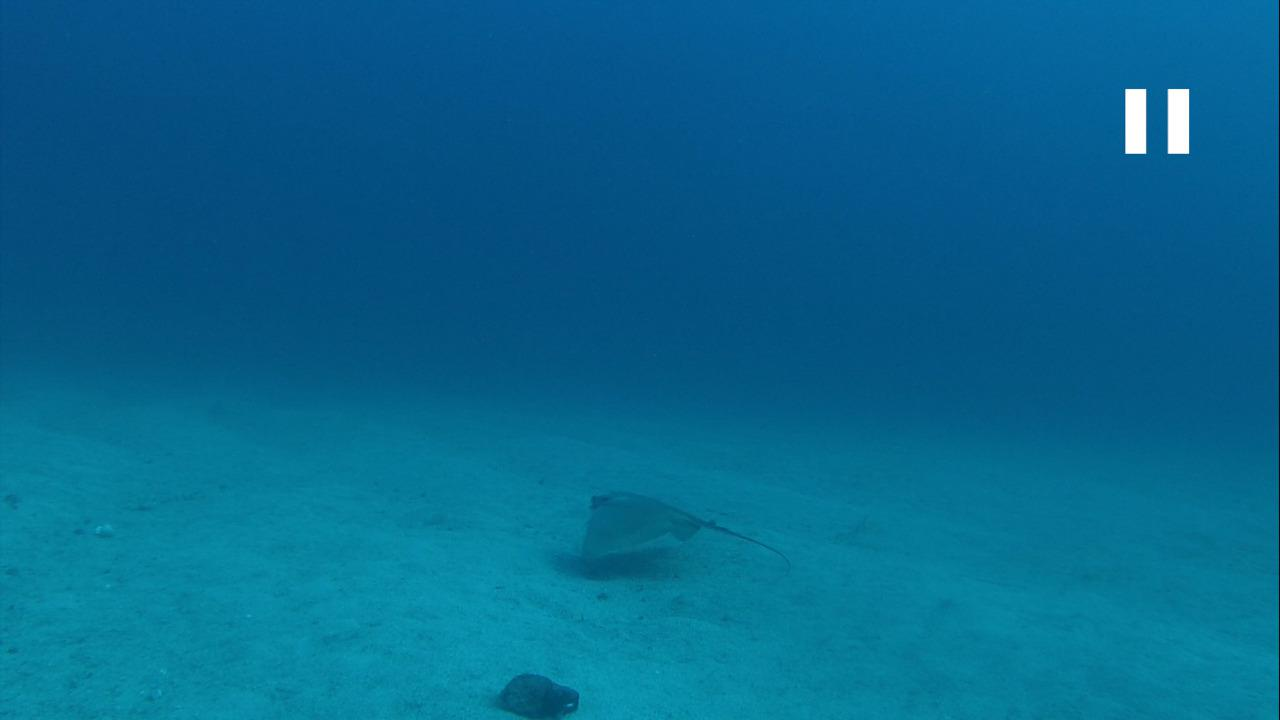myliobatis: (570, 473, 806, 592)
